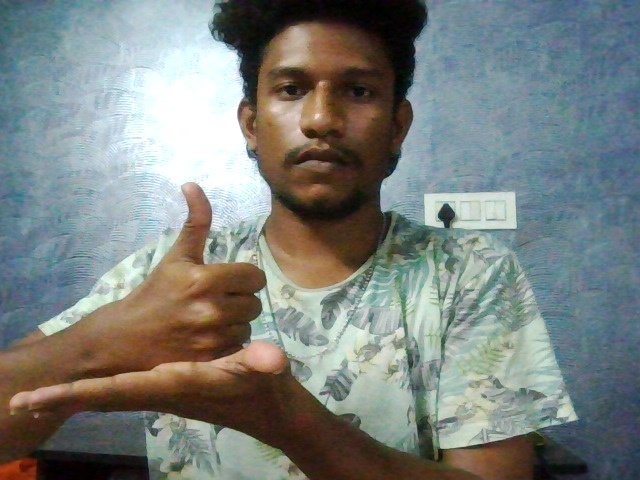help: (14, 186, 335, 426)
